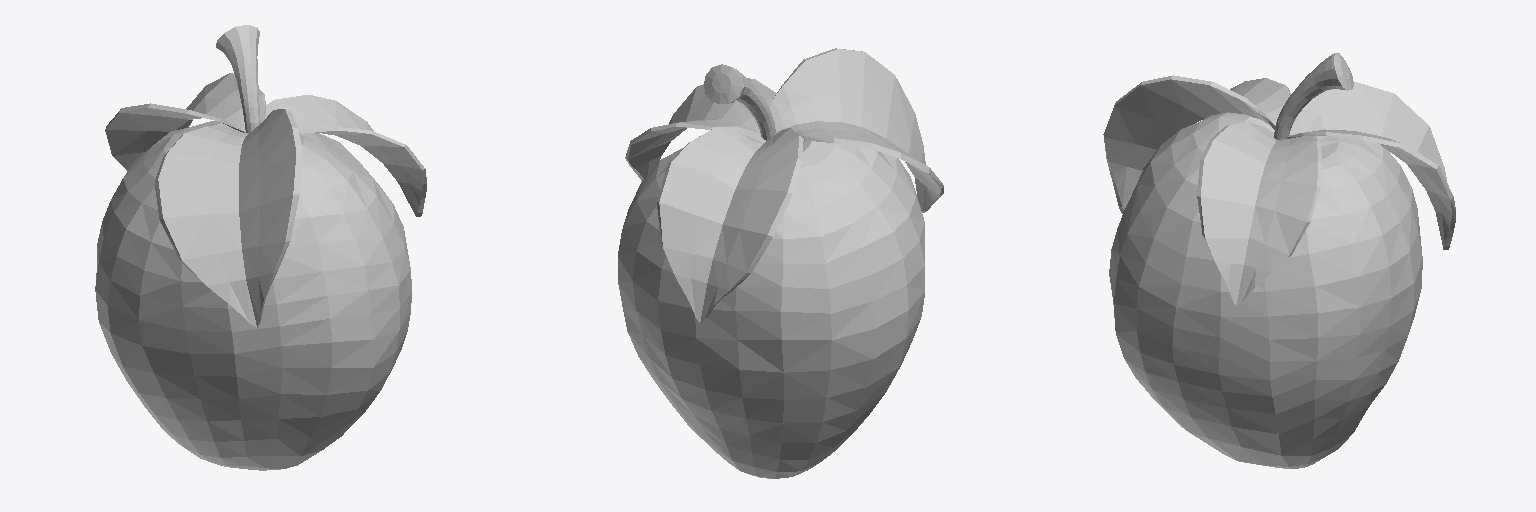
Rendered from Wumpa01.obj.
3 renders of one model, left to right at view 1: azimuth 30°, elevation 25°; view 2: azimuth 150°, elevation 25°; view 3: azimuth 270°, elevation 25°, orthographic.
Visible parts, largest first — view 1: SM_GP_Wumpa_01.mo_SM_GP_Wumpa_01.md; view 2: SM_GP_Wumpa_01.mo_SM_GP_Wumpa_01.md; view 3: SM_GP_Wumpa_01.mo_SM_GP_Wumpa_01.md.
Part boxes in pixels (bbox=[...]): SM_GP_Wumpa_01.mo_SM_GP_Wumpa_01.md: bbox=[95, 25, 426, 470]; SM_GP_Wumpa_01.mo_SM_GP_Wumpa_01.md: bbox=[618, 48, 943, 478]; SM_GP_Wumpa_01.mo_SM_GP_Wumpa_01.md: bbox=[1103, 53, 1455, 468].
Bounding box in the file's own units: 0.1795 × 0.2455 × 0.1896.